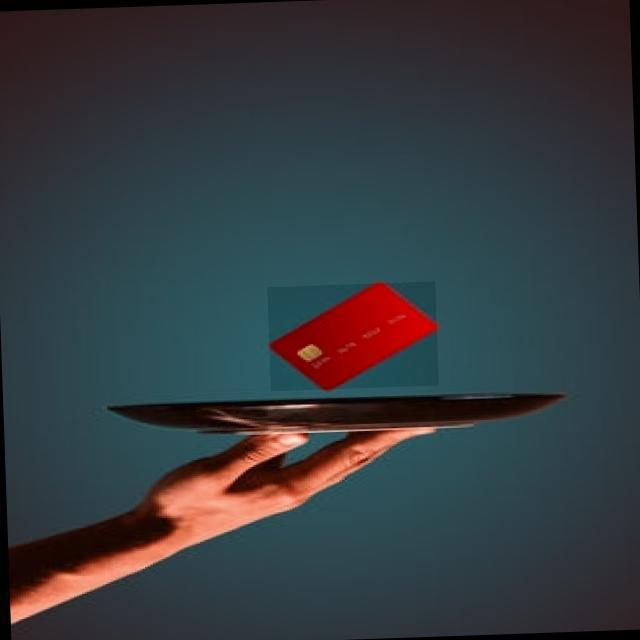payment_card: (267, 279, 438, 391)
